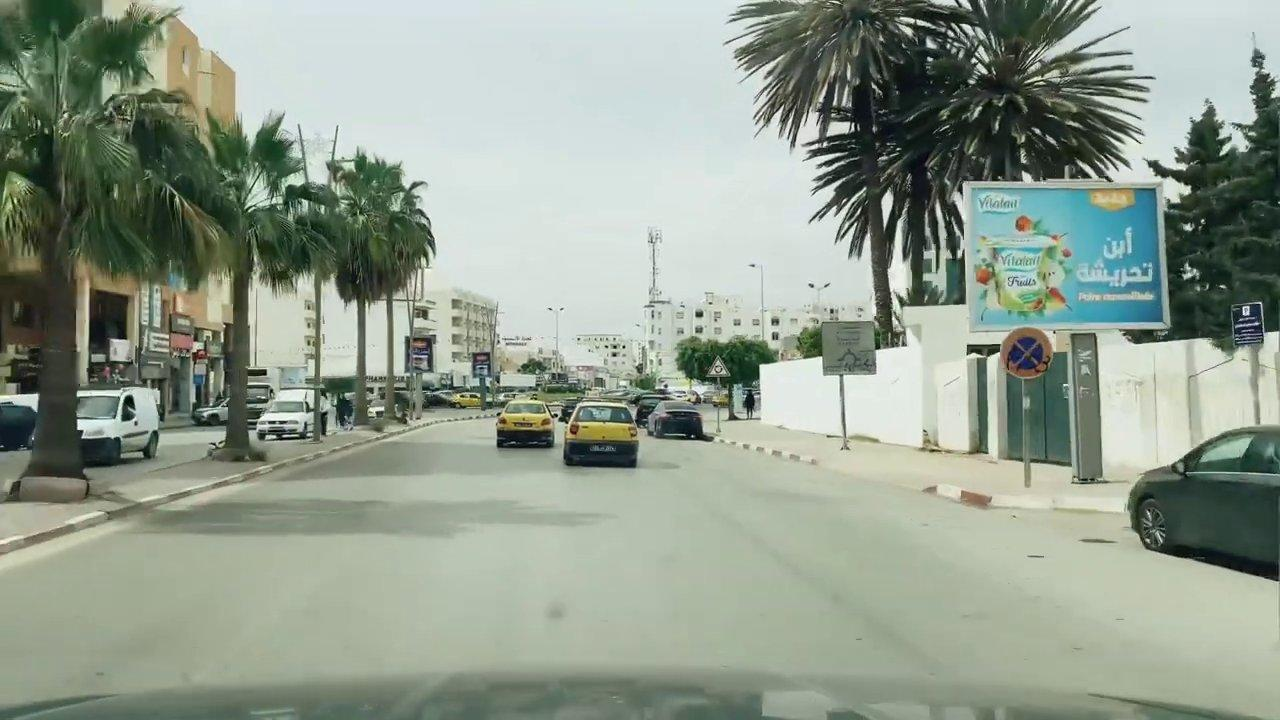no stopping: (999, 326, 1055, 379)
roundabout: (703, 355, 735, 383)
